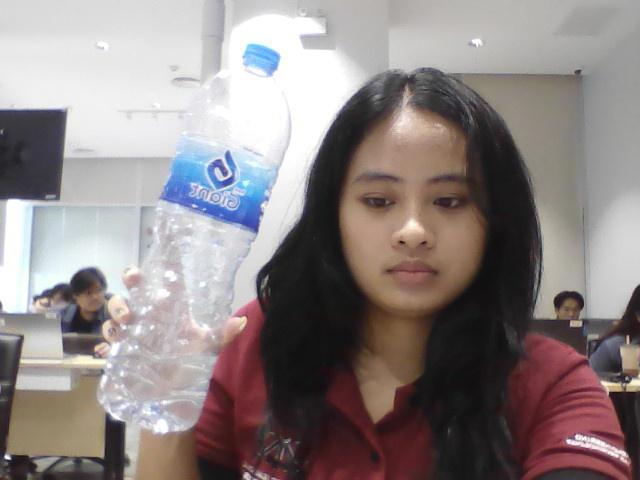bottle: (104, 41, 295, 441)
